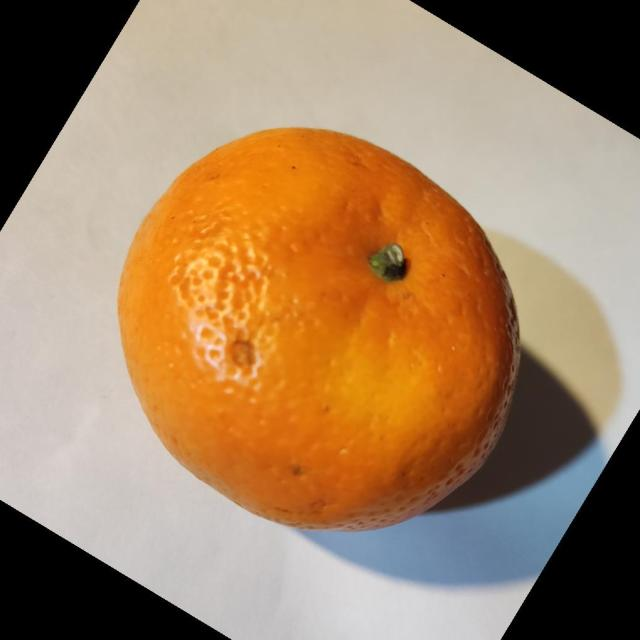fresh orange: (116, 125, 522, 533)
